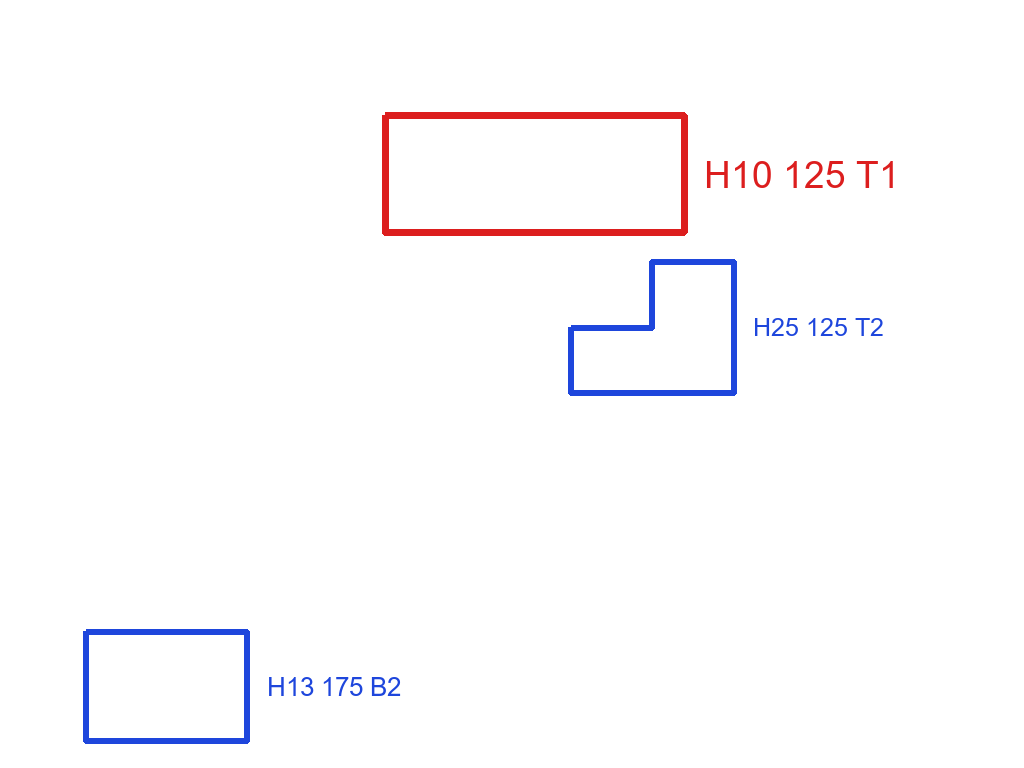shape: (380, 110, 690, 238), (566, 256, 738, 398), (81, 627, 252, 747)
text: (702, 159, 902, 190), (265, 675, 403, 698), (751, 316, 886, 338)
